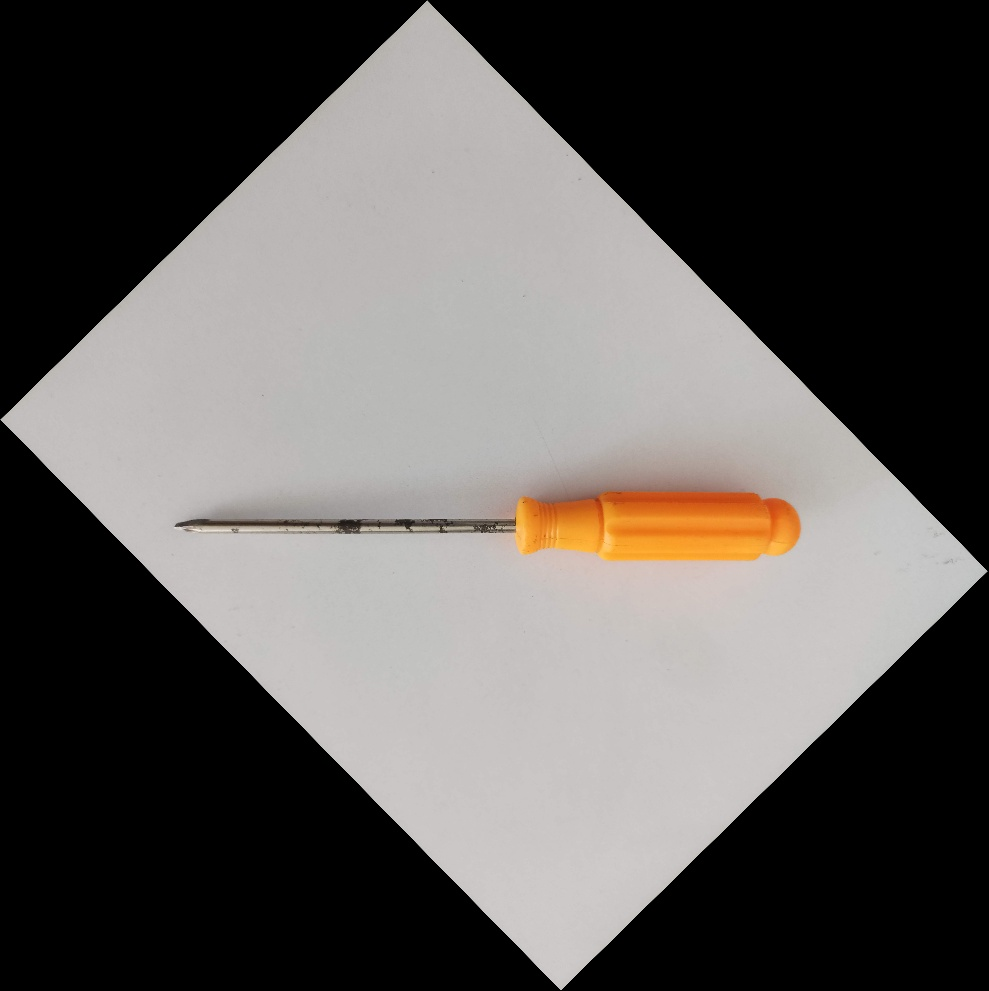screwdriver: (169, 485, 805, 566)
